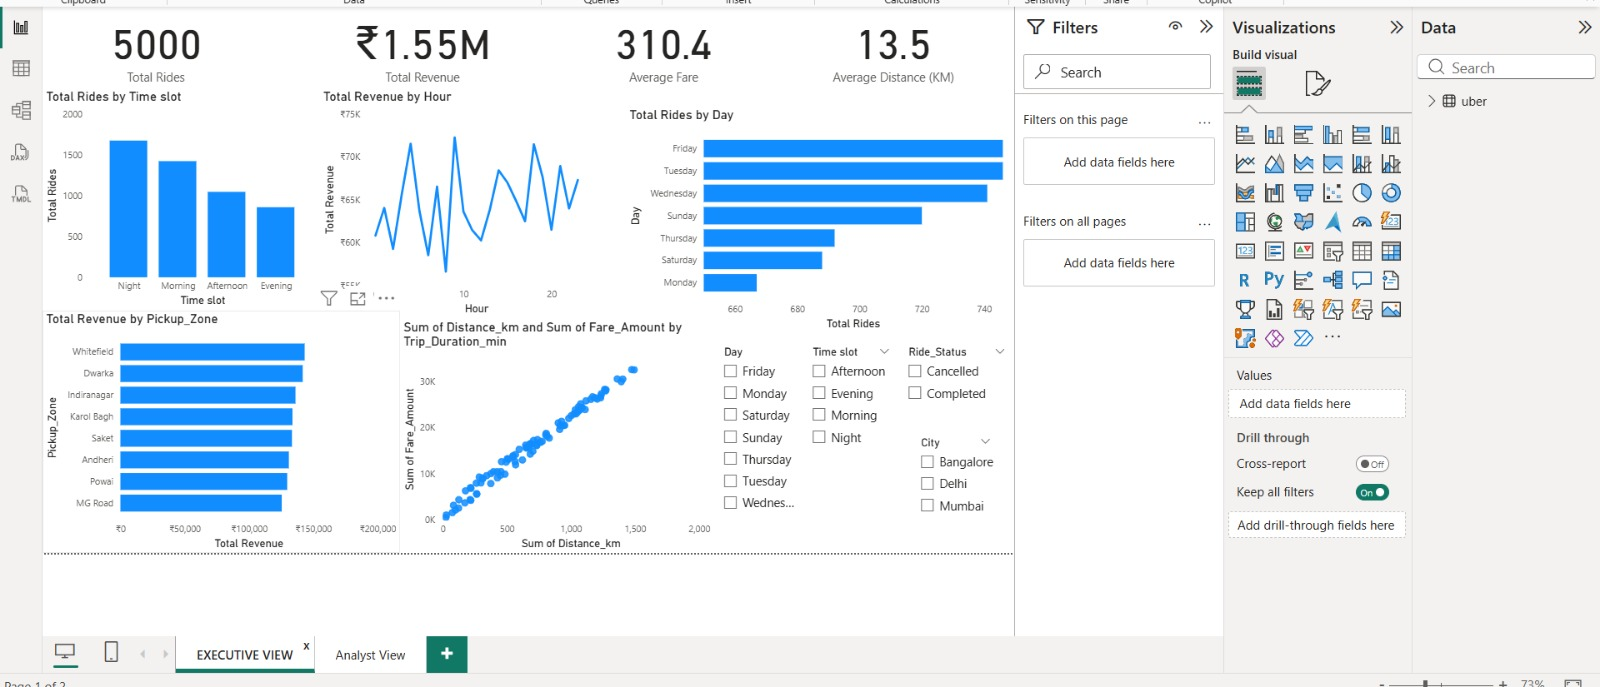

The dashboard page shown, as its layout file describes it:
{"tool":"powerbi","page":{"name":"EXECUTIVE VIEW","canvas":[1280,720],"ordinal":0},"visuals":[{"type":"card","fields":{"Values":["uber.Total Rides"]},"box":[9.6,0,279.9,108.4],"z":0},{"type":"card","fields":{"Values":["uber.Average Distance (KM)"]},"box":[961.9,0,318.4,108.4],"z":1000},{"type":"card","fields":{"Values":["uber.Average Fare"]},"box":[654.5,0,328,108.4],"z":2000},{"type":"card","fields":{"Values":["uber.Total Revenue"]},"box":[347.2,0,307.4,108.4],"z":3000},{"type":"clusteredColumnChart","fields":{"Category":["uber.Time slot"],"Y":["uber.Total Rides"]},"box":[0,108.4,365,292.3],"z":4000},{"type":"lineChart","fields":{"Y":["uber.Total Revenue"],"Category":["uber.Hour"]},"box":[365,108.4,355.4,303.3],"z":5000},{"type":"clusteredBarChart","fields":{"Category":["uber.Day_Name"],"Y":["uber.Total Rides"]},"box":[768.4,131.7,511.8,299.1],"z":6000},{"type":"barChart","fields":{"Category":["uber.Pickup_Zone"],"Y":["uber.Total Revenue"]},"box":[0,400.7,470.7,319.7],"z":7000},{"type":"scatterChart","fields":{"X":["Sum(uber.Distance_km)"],"Y":["Sum(uber.Fare_Amount)"],"Category":["uber.Trip_Duration_min"]},"box":[470.7,411.7,414.4,308.7],"z":8000},{"type":"slicer","fields":{"Values":["uber.City"]},"box":[1144.4,561.2,116.6,159.2],"z":9000},{"type":"slicer","fields":{"Values":["uber.Day"]},"box":[885.1,441.9,116.6,240.1],"z":10000},{"type":"slicer","fields":{"Values":["uber.Time slot"]},"box":[1001.7,441.9,126.2,171.5],"z":11000},{"type":"slicer","fields":{"Values":["uber.Ride_Status"]},"box":[1128,441.9,152.3,100.2],"z":12000}]}

Visuals, with their boxes on the page's 1280x720 design canvas (x1, y1, x2, y2). These are canvas units, not pixel positions in the 1600x687 screenshot, which may show the page scaled, cropped or inside an application window:
card - uber.Total Rides: crop(10, 0, 290, 108)
card - uber.Average Distance (KM): crop(962, 0, 1280, 108)
card - uber.Average Fare: crop(654, 0, 982, 108)
card - uber.Total Revenue: crop(347, 0, 655, 108)
clusteredColumnChart - uber.Time slot x uber.Total Rides: crop(0, 108, 365, 401)
lineChart - uber.Total Revenue x uber.Hour: crop(365, 108, 720, 412)
clusteredBarChart - uber.Day_Name x uber.Total Rides: crop(768, 132, 1280, 431)
barChart - uber.Pickup_Zone x uber.Total Revenue: crop(0, 401, 471, 720)
scatterChart - Sum(uber.Distance_km) x Sum(uber.Fare_Amount): crop(471, 412, 885, 720)
slicer - uber.City: crop(1144, 561, 1261, 720)
slicer - uber.Day: crop(885, 442, 1002, 682)
slicer - uber.Time slot: crop(1002, 442, 1128, 613)
slicer - uber.Ride_Status: crop(1128, 442, 1280, 542)
